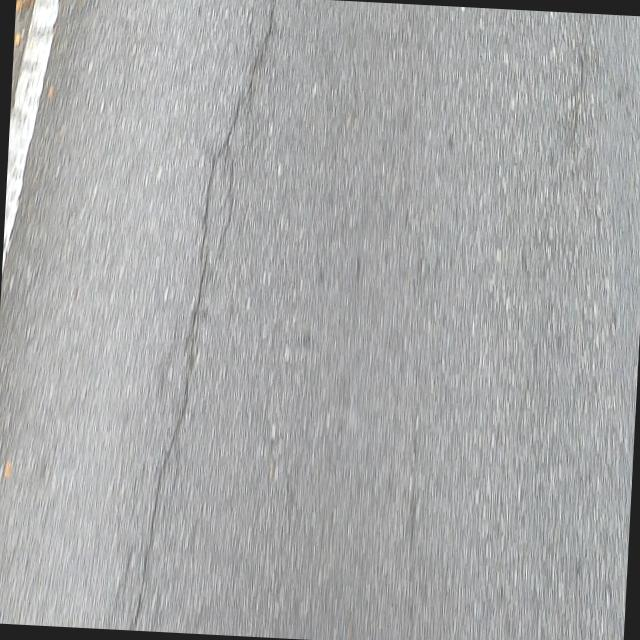Retak-Memanjang: (129, 0, 281, 625)
